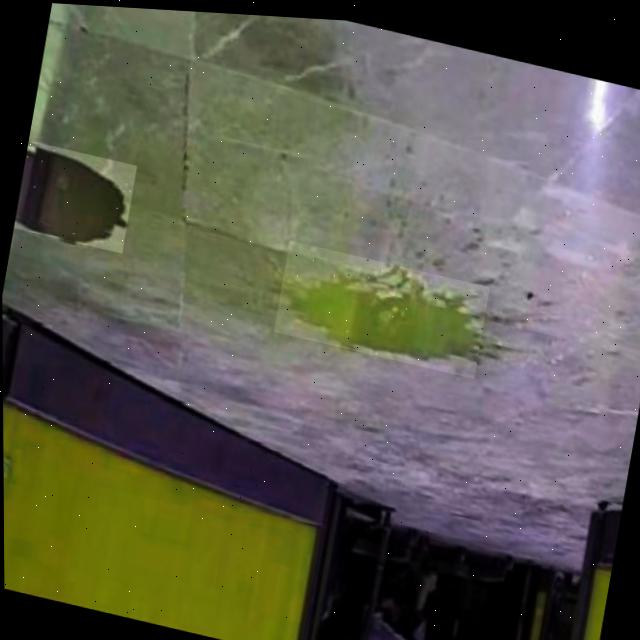spillage: (280, 262, 479, 356), (14, 140, 126, 239)
